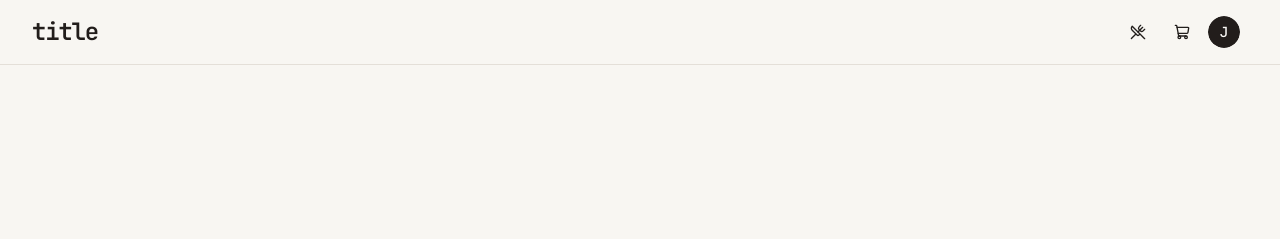
Test: Header — Information Architecture rules › authed customer has Profile only inside the avatar menu, never in the top nav
This screenshot has width=1280, height=239.
Expected: the link "profile" is not shown
Click the button named "userMenu": (1224, 32) [1208, 16, 1240, 48]
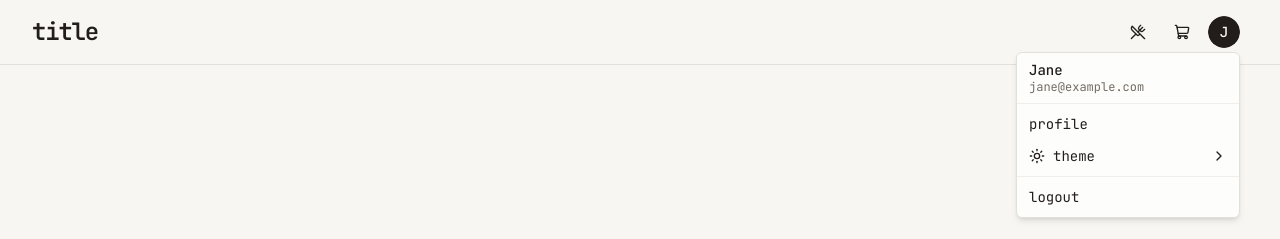
Now the menu is shown, box [1016, 52, 1240, 218]
Now the menu item "profile" is shown, box [1029, 115, 1088, 133]
Now the menu item "logout" is shown, box [1029, 188, 1079, 206]
